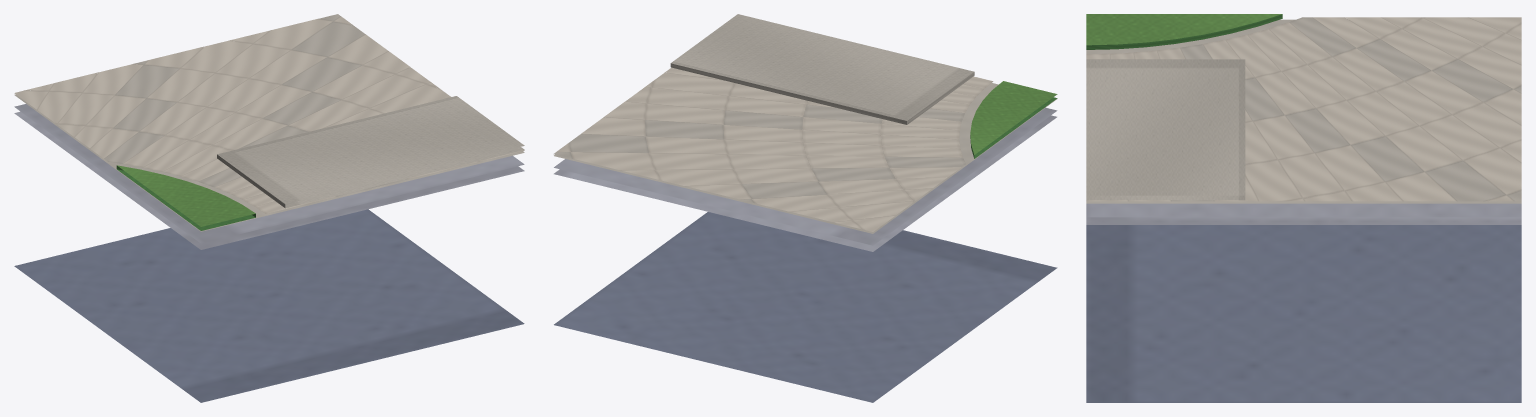
Rendered from high_crown_fracture_43.obj.
3 renders of one model, left to right at view 1: azimuth 30°, elevation 25°; view 2: azimuth 150°, elevation 25°; view 3: azimuth 270°, elevation 25°, orthographic. The views are drawn at different scales.
Parts seen in each view (by area): view 1: ArenaFracture43; view 2: ArenaFracture43; view 3: ArenaFracture43.
Boxes of the visible parts, x1,y1,x2,y2 form: ArenaFracture43: (14, 14, 524, 402); ArenaFracture43: (553, 14, 1057, 402); ArenaFracture43: (1086, 14, 1521, 402).
Bounding box in the file's own units: 10 × 5.26 × 10.
6 materials, 6 textured.
